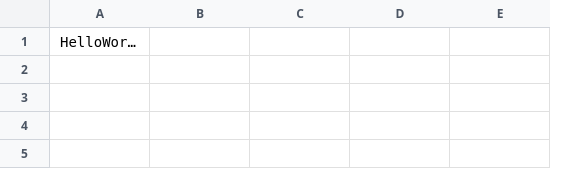
Scenario: Grid - Cell Editing Input › cursor is at right-most position when editing starts (double-click)
The image size is (567, 185).
Double-click to start editing
Double-click the element with class "grid-cell" showing "HelloWorld".
double_click(100, 42)  # box left=50, top=28, right=150, bottom=56
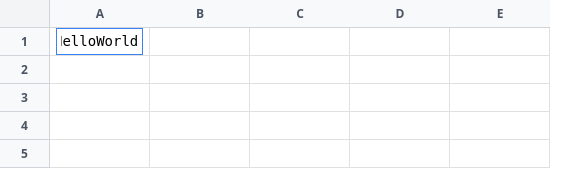
Check: the field holds "HelloWorld", box left=56, top=28, right=143, bottom=54
